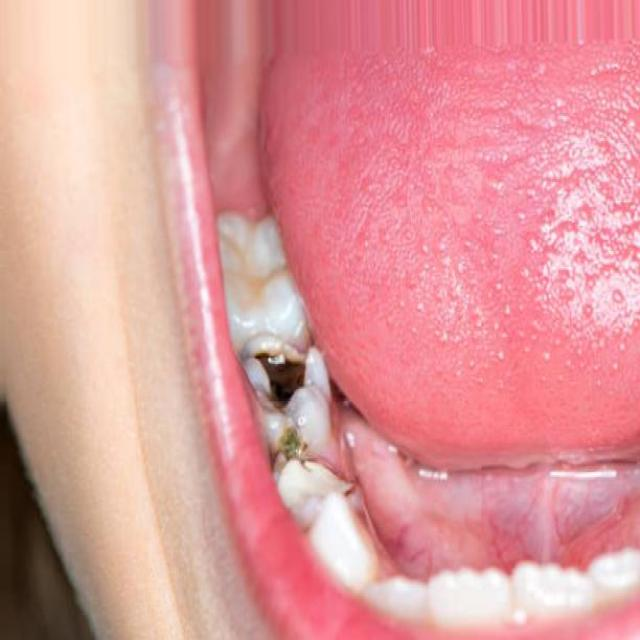caries: (258, 404, 338, 508), (245, 331, 331, 417)
